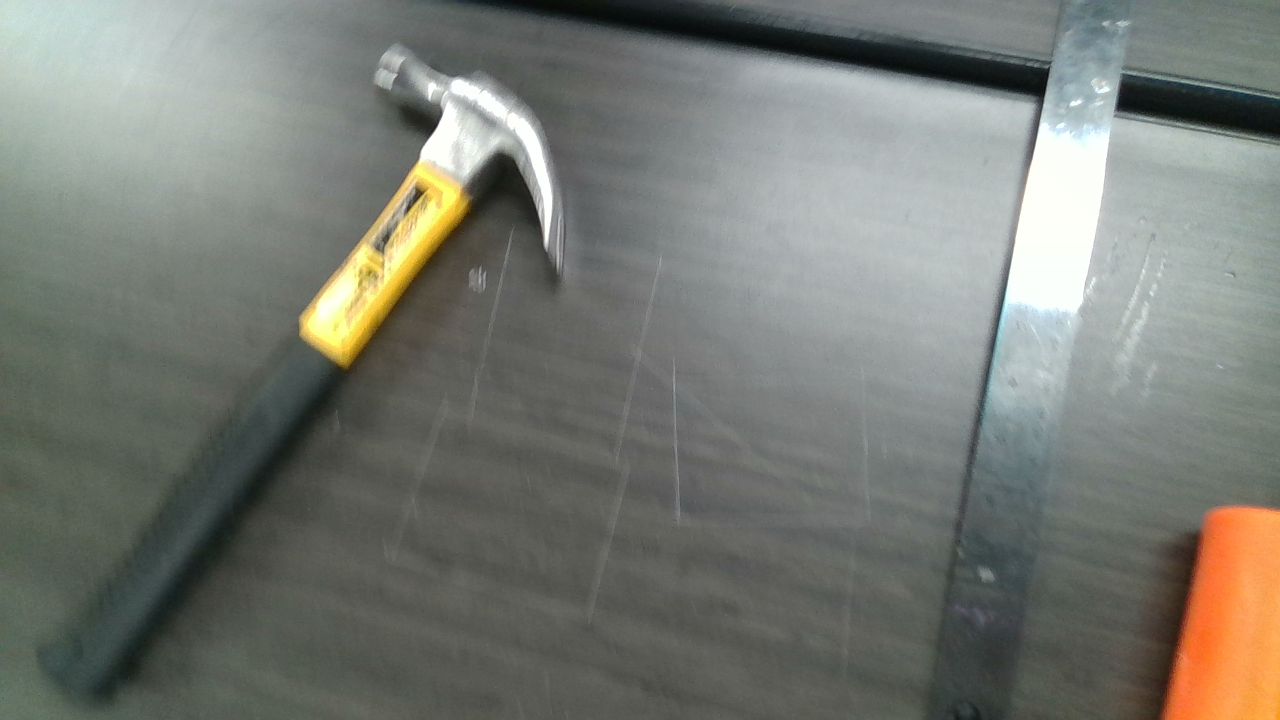Orange Hammer: (1162, 503, 1280, 720)
